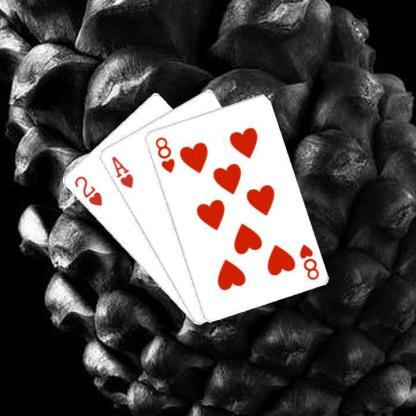2H: (71, 173, 103, 207)
8H: (152, 134, 176, 175), (296, 242, 320, 282)
AH: (108, 153, 134, 190)
